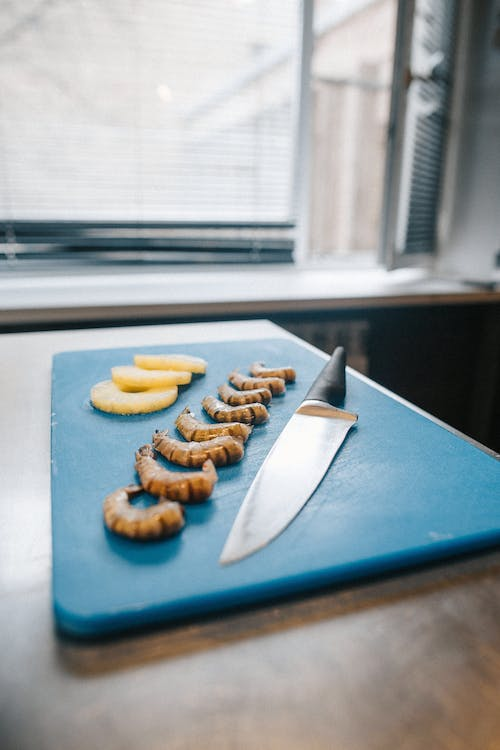knife: (217, 343, 360, 566)
